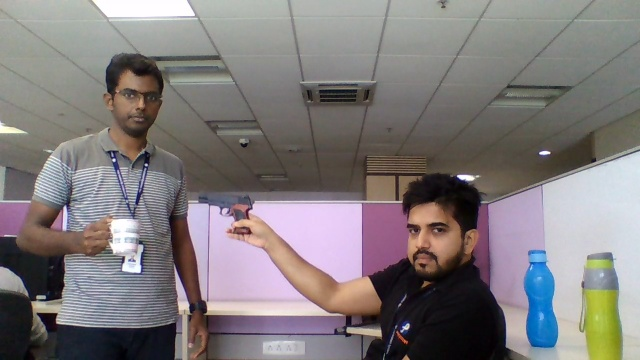gun: (196, 193, 256, 216)
